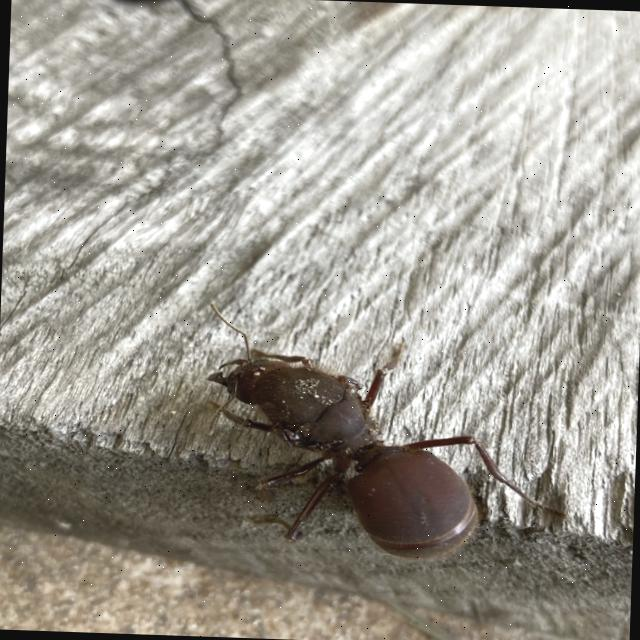Alive-Male-Alate: (201, 303, 577, 566)
